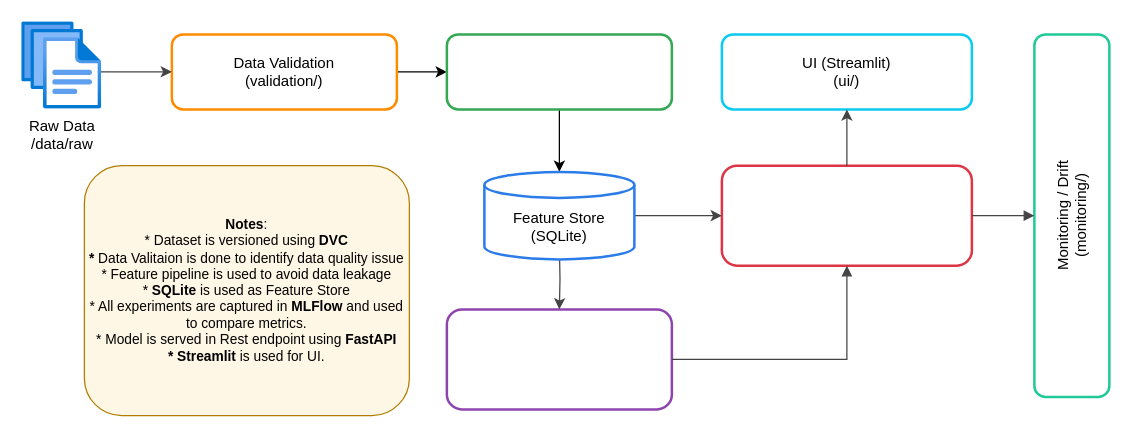
This 1131x438 diagram has some shape labels left out. Each missing label, with the box of its shape:
Feature Engineering (feature/): (445, 32, 672, 110)
Serving / API (FastAPI / Uvicorn): (720, 164, 972, 266)
Training & Experiments (training/, MLflow): (445, 308, 672, 410)
